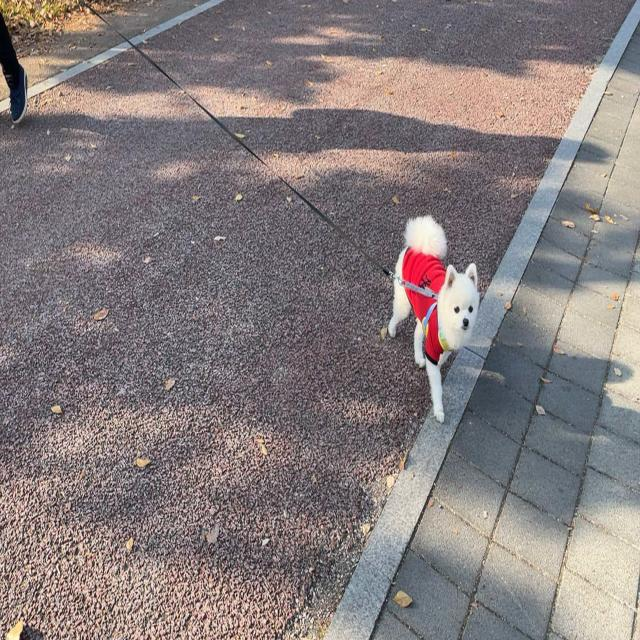Dog: (387, 213, 480, 424)
